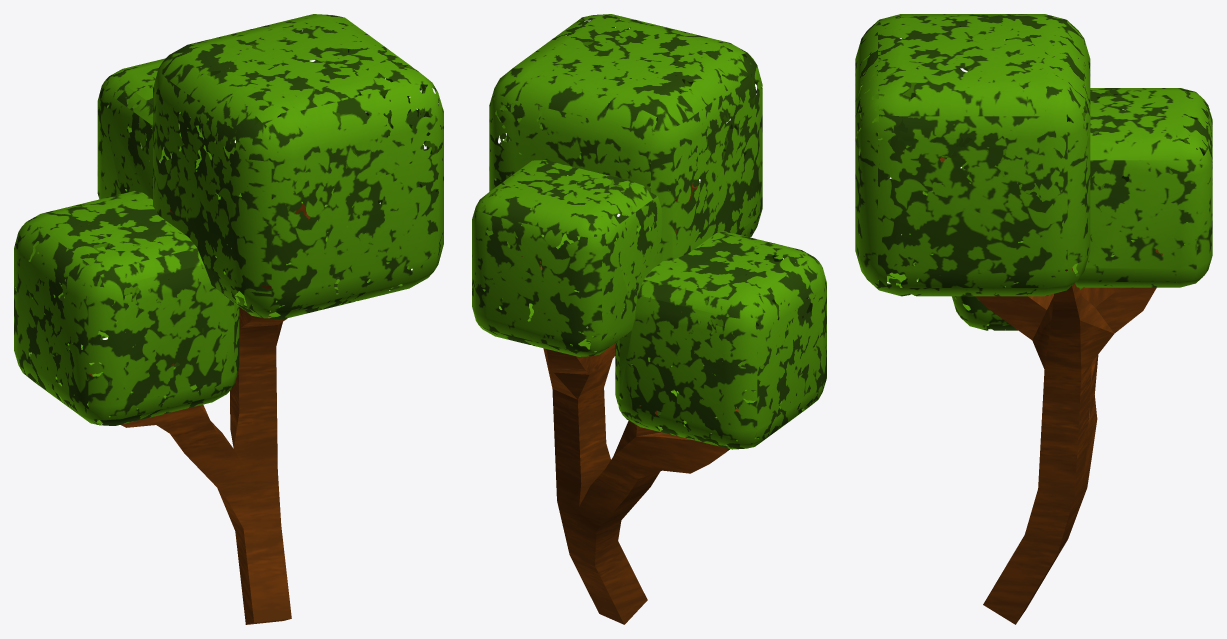
File: tree 1.fbx
3 renders of one model, left to right at view 1: azimuth 30°, elevation 25°; view 2: azimuth 150°, elevation 25°; view 3: azimuth 270°, elevation 25°, orthographic. The views are drawn at different scales.
Visible parts, largest first — view 1: tree 1; view 2: tree 1; view 3: tree 1.
Boxes of the visible parts, x1,y1,x2,y2 form: tree 1: [14, 14, 443, 624]; tree 1: [472, 14, 826, 624]; tree 1: [855, 14, 1212, 624].
Bounding box in the file's own units: 838 × 1455 × 822.
